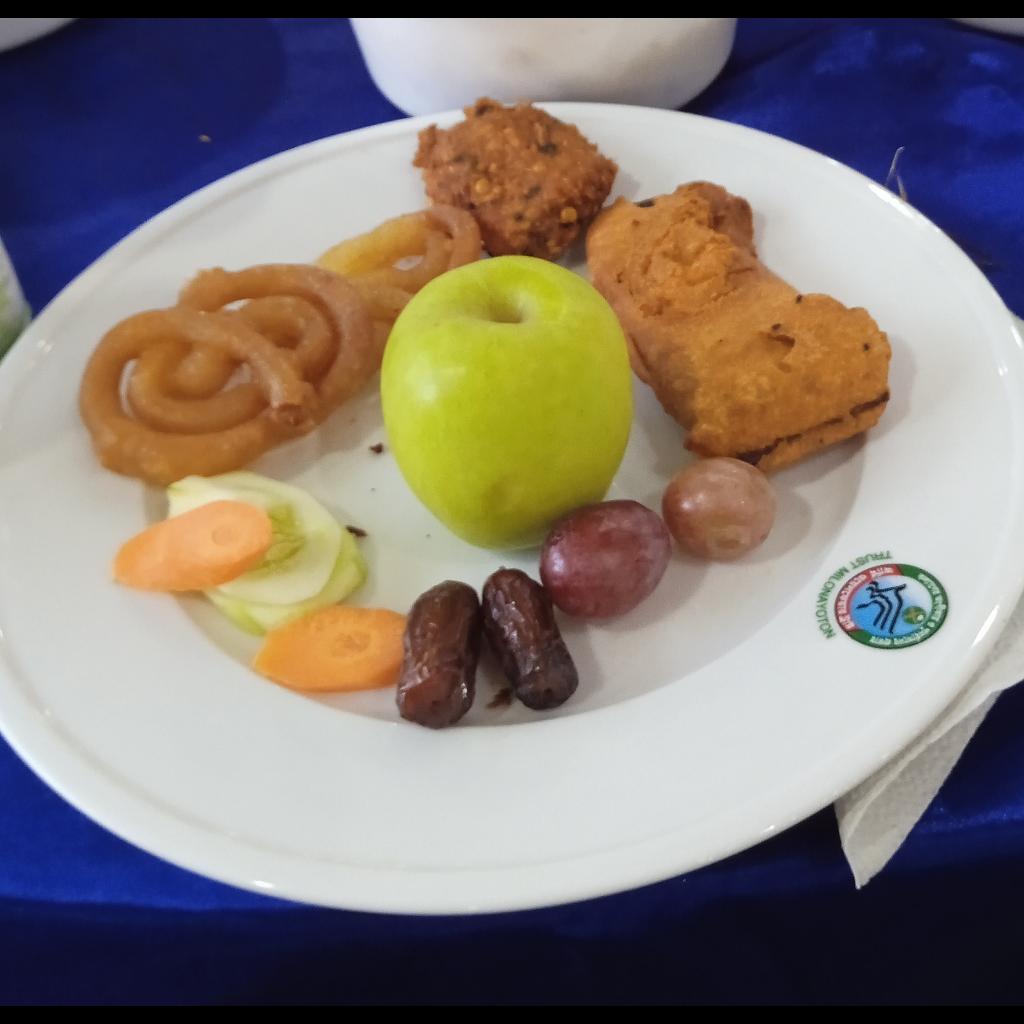apple: (378, 257, 634, 554)
beguni: (587, 181, 892, 472)
carrot: (113, 499, 272, 594), (248, 605, 408, 690)
cucumber: (165, 470, 367, 637)
dates: (396, 569, 578, 729)
grapes: (540, 458, 778, 620)
jilapi: (78, 205, 480, 485)
piyaju: (414, 97, 620, 260)
